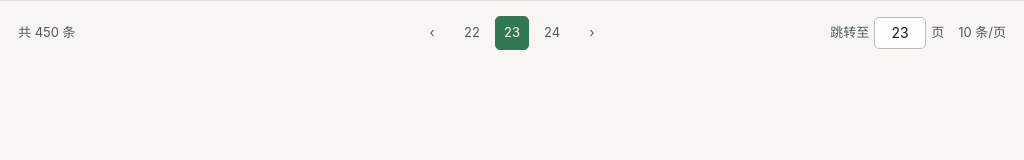
Scenario: StudentPagination › 支持回车跳转，非法页码不触发 change
Replace the text in the field named "跳转页码" with "40" at (900,32), box [874,16,926,48]
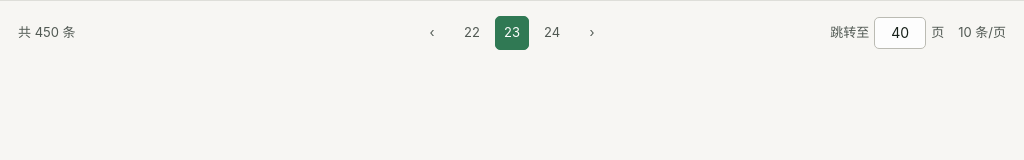
Press Enter in the field named "跳转页码", box [874,16,926,48]
Replace the text in the field named "跳转页码" with "999" at (900,32), box [874,16,926,48]
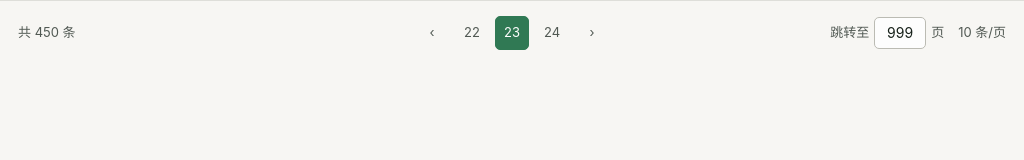
Press Enter in the field named "跳转页码", box [874,16,926,48]
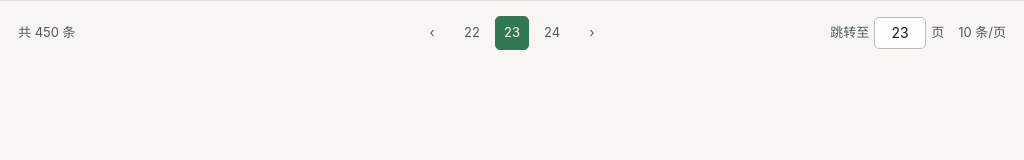
Result: the field named "跳转页码" holds "23"
Replace the text in the field named "跳转页码" with "abc" at (900,32), box [874,16,926,48]
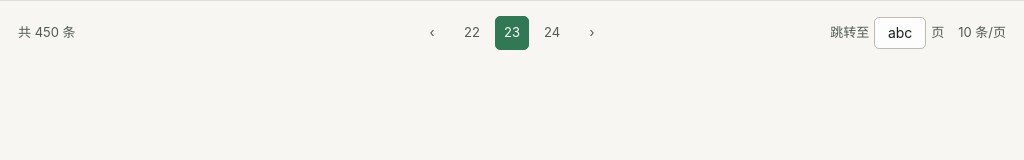
Press Enter in the field named "跳转页码", box [874,16,926,48]
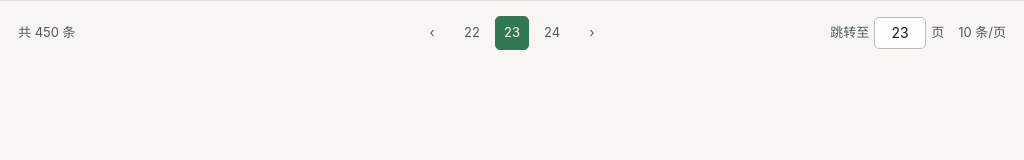
Result: the field named "跳转页码" holds "23" at [874,16,926,48]
